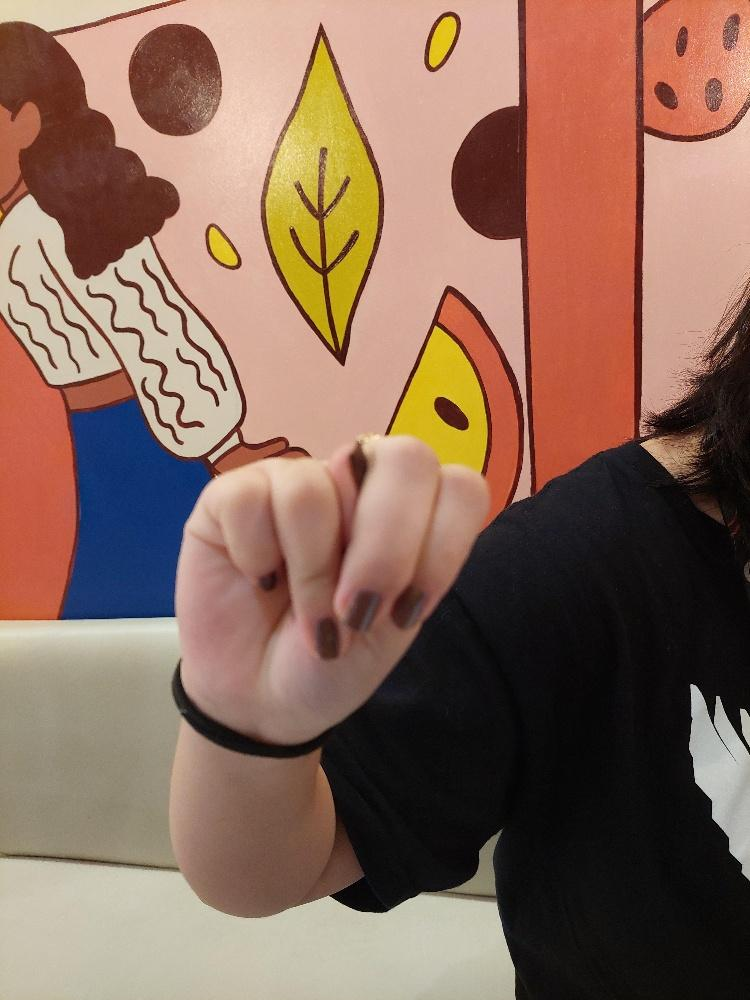n: (170, 428, 494, 727)
